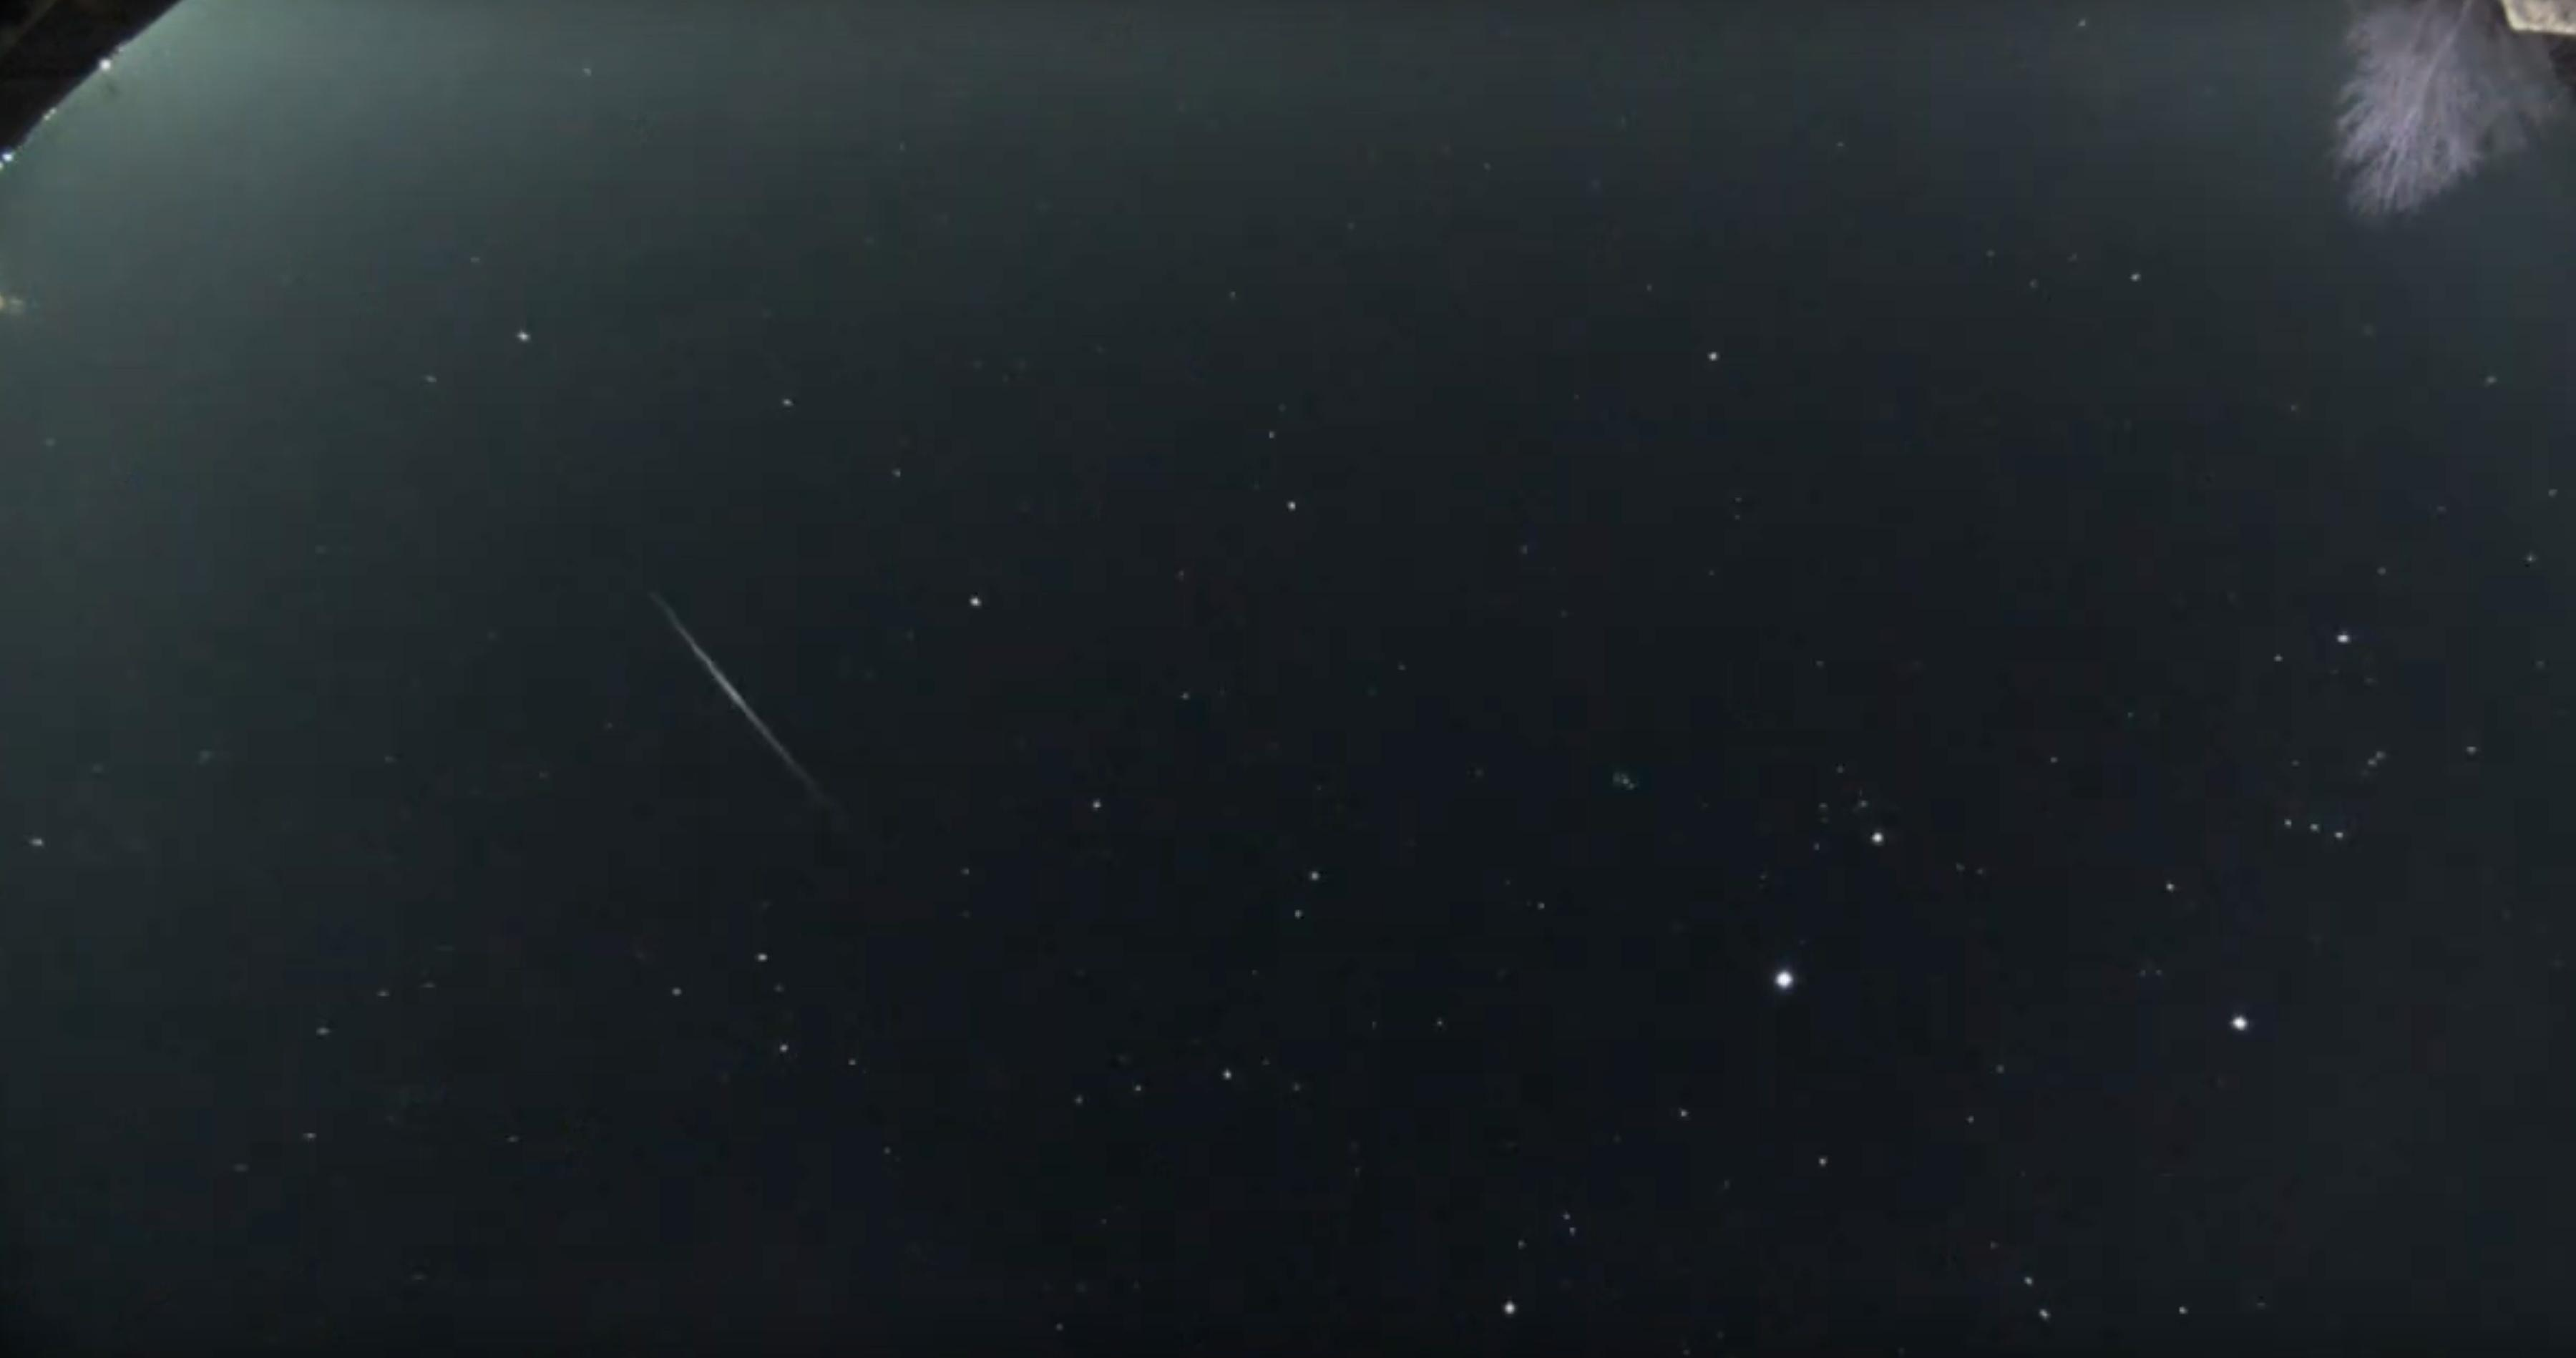meteorite: (622, 581, 888, 840)
